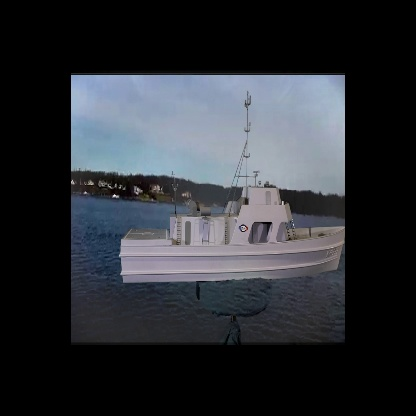YP689: (118, 91, 345, 282)
